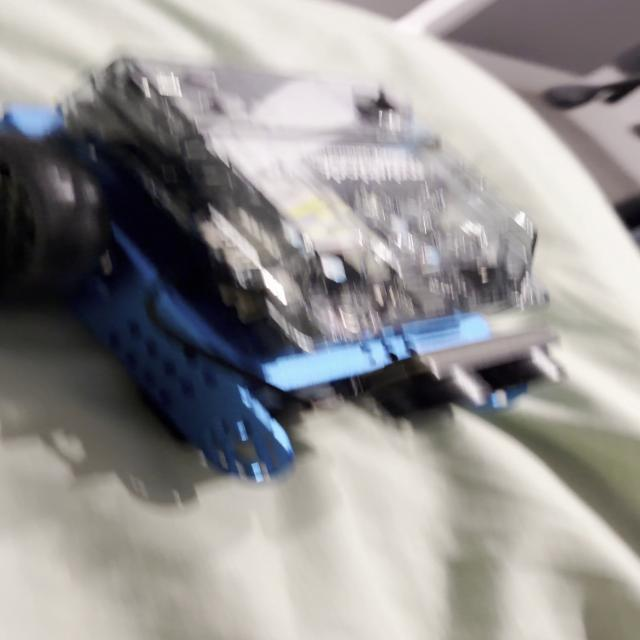mbot-detection: (0, 47, 582, 499)
